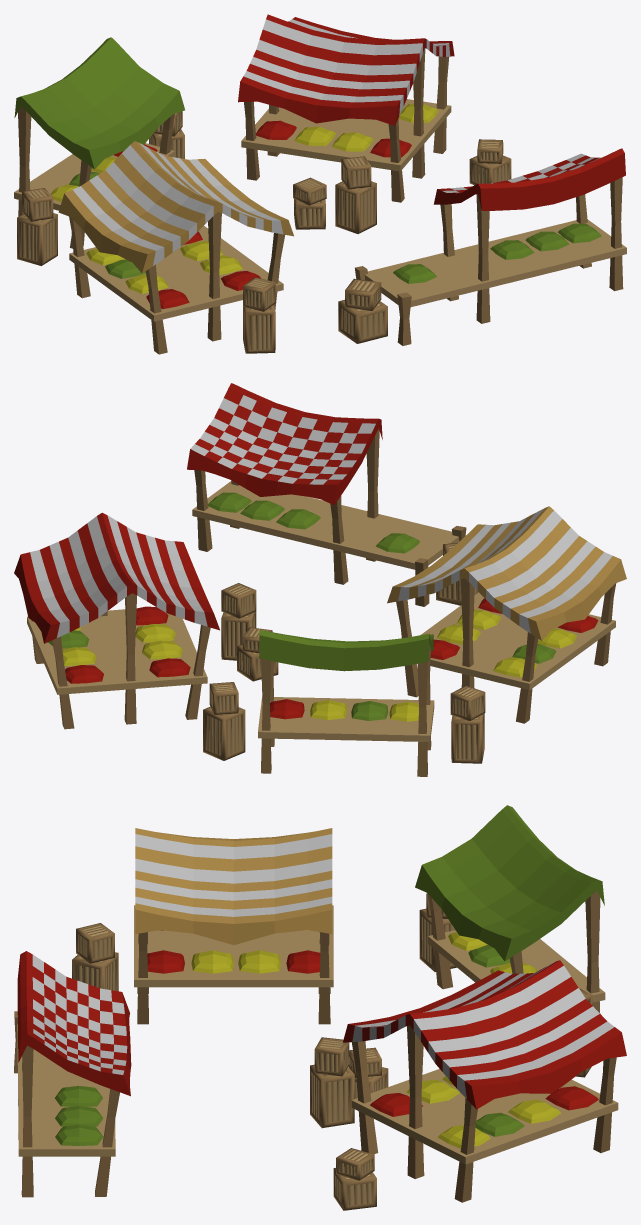
The model's file is Market Stalls-PUZZ5F91OE.glb.
3 renders of one model, top to bottom at view 1: azimuth 30°, elevation 25°; view 2: azimuth 150°, elevation 25°; view 3: azimuth 270°, elevation 25°, orthographic. The views are drawn at different scales.
Parts seen in each view (by area): view 1: Market_FirstAge_Level2; view 2: Market_FirstAge_Level2; view 3: Market_FirstAge_Level2.
Boxes of the visible parts, left/top/right/bottom form: Market_FirstAge_Level2: left=14, top=14, right=626, bottom=354; Market_FirstAge_Level2: left=14, top=383, right=626, bottom=776; Market_FirstAge_Level2: left=14, top=805, right=626, bottom=1210.
Size of the model in its own units: 1.9 by 0.5526 by 1.87.
